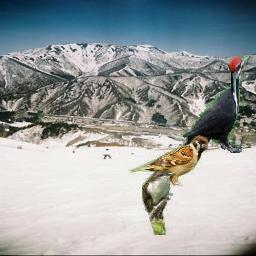Cuckoo: (142, 169, 176, 236)
Sparrow: (128, 133, 210, 187)
Woodpecker: (174, 55, 250, 154)
